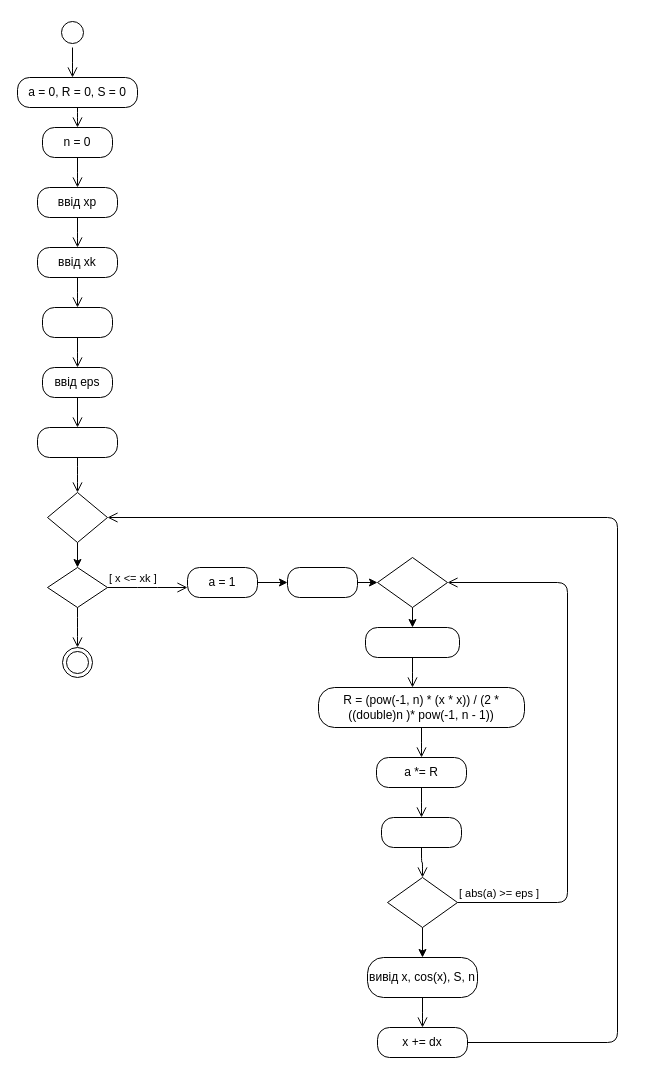
Image size: 645x1075. Some labels were removed from this diagram. Here are the shapes that lost their labels. From the top down, the box of each, then its label:
(42, 306, 112, 338): ввід dx
(36, 426, 118, 458): x = xp
(286, 566, 358, 598): S = a
(364, 626, 460, 658): n++
(380, 816, 462, 848): S += a
